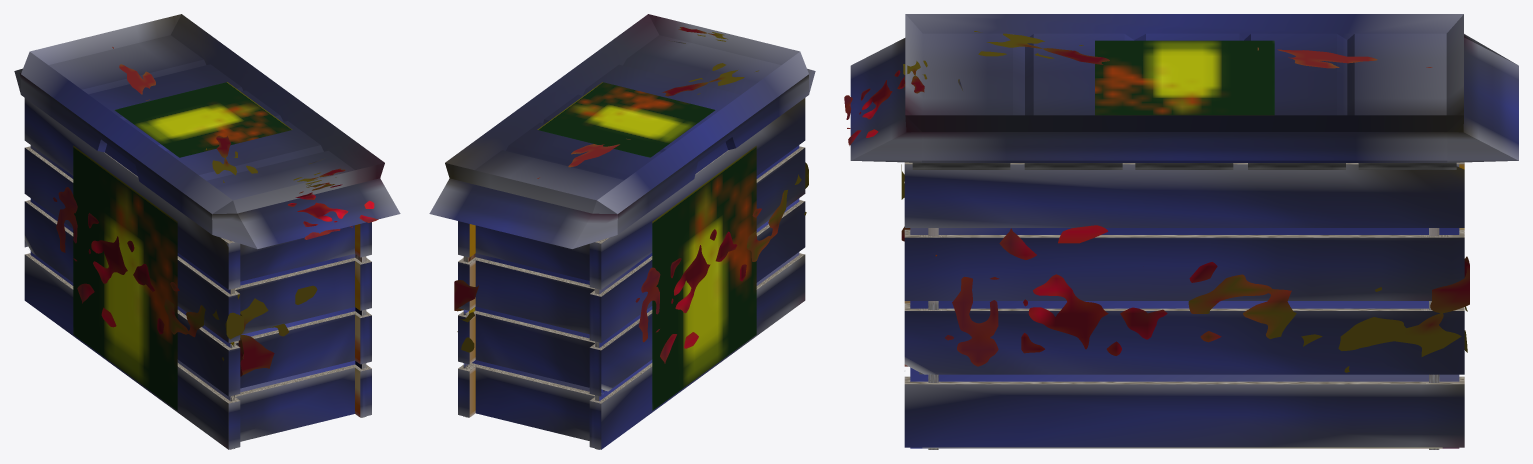
File: ammo crate.obj
The picture shows the model from 3 angles, left to right: view 1: azimuth 30°, elevation 25°; view 2: azimuth 150°, elevation 25°; view 3: azimuth 270°, elevation 25°; orthographic projection. The views are drawn at different scales.
Parts seen in each view (by area): view 1: Cube.020, cross_1_Plane.003, cross_2_Plane, Cube.006, Cube.005, Plane.001, Cube.015, Cube.008, Cube.017, Cube.016, Cube.007, Cube.018 (+9 smaller); view 2: Cube.020, cross_1_Plane.003, cross_2_Plane, Cube.006, Cube.005, Cube.010, Cube.011, Cube.012, Cube.007, Cube.008, Plane.001, Cube.013 (+9 smaller); view 3: Cube.020, Cube, Cube.002, Cube.003, Cube.001, Plane.002, cross_2_Plane, Cube.004, Plane.006, Plane.005, Plane.007, Plane.004 (+5 smaller).
Part boxes in pixels (left/top/right/bottom): Cube.020: left=14, top=14, right=400, bottom=248; cross_1_Plane.003: left=73, top=145, right=177, bottom=410; cross_2_Plane: left=114, top=82, right=292, bottom=157; Cube.006: left=24, top=98, right=240, bottom=289; Cube.005: left=24, top=253, right=240, bottom=449; Plane.001: left=53, top=187, right=317, bottom=376; Cube.015: left=226, top=364, right=355, bottom=441; Cube.008: left=24, top=200, right=240, bottom=396; Cube.017: left=216, top=258, right=354, bottom=334; Cube.016: left=216, top=311, right=357, bottom=388; Cube.007: left=24, top=146, right=240, bottom=342; Cube.018: left=225, top=225, right=354, bottom=281; Cube.020: left=429, top=14, right=815, bottom=248; cross_1_Plane.003: left=652, top=145, right=756, bottom=410; cross_2_Plane: left=537, top=82, right=715, bottom=157; Cube.006: left=589, top=98, right=805, bottom=289; Cube.005: left=589, top=253, right=805, bottom=449; Cube.010: left=468, top=363, right=614, bottom=440; Cube.011: left=468, top=310, right=614, bottom=391; Cube.012: left=472, top=257, right=607, bottom=334; Cube.007: left=589, top=146, right=805, bottom=342; Cube.008: left=589, top=200, right=805, bottom=396; Plane.001: left=635, top=162, right=808, bottom=363; Cube.013: left=475, top=225, right=589, bottom=280; Cube.020: left=850, top=14, right=1518, bottom=162; Cube: left=904, top=376, right=1464, bottom=447; Cube.002: left=904, top=229, right=1464, bottom=300; Cube.003: left=904, top=162, right=1464, bottom=227; Cube.001: left=904, top=303, right=1464, bottom=374; Plane.002: left=935, top=225, right=1469, bottom=372; cross_2_Plane: left=1095, top=40, right=1274, bottom=115; Cube.004: left=910, top=164, right=1459, bottom=448; Plane.006: left=844, top=60, right=962, bottom=145; Plane.005: left=974, top=31, right=1109, bottom=64; Plane.007: left=922, top=447, right=1442, bottom=448; Plane.004: left=1257, top=47, right=1432, bottom=68.
Size of the model in its own units: 0.9642 by 1.39 by 2.46.
Materials: 1 (1 with a texture image).
